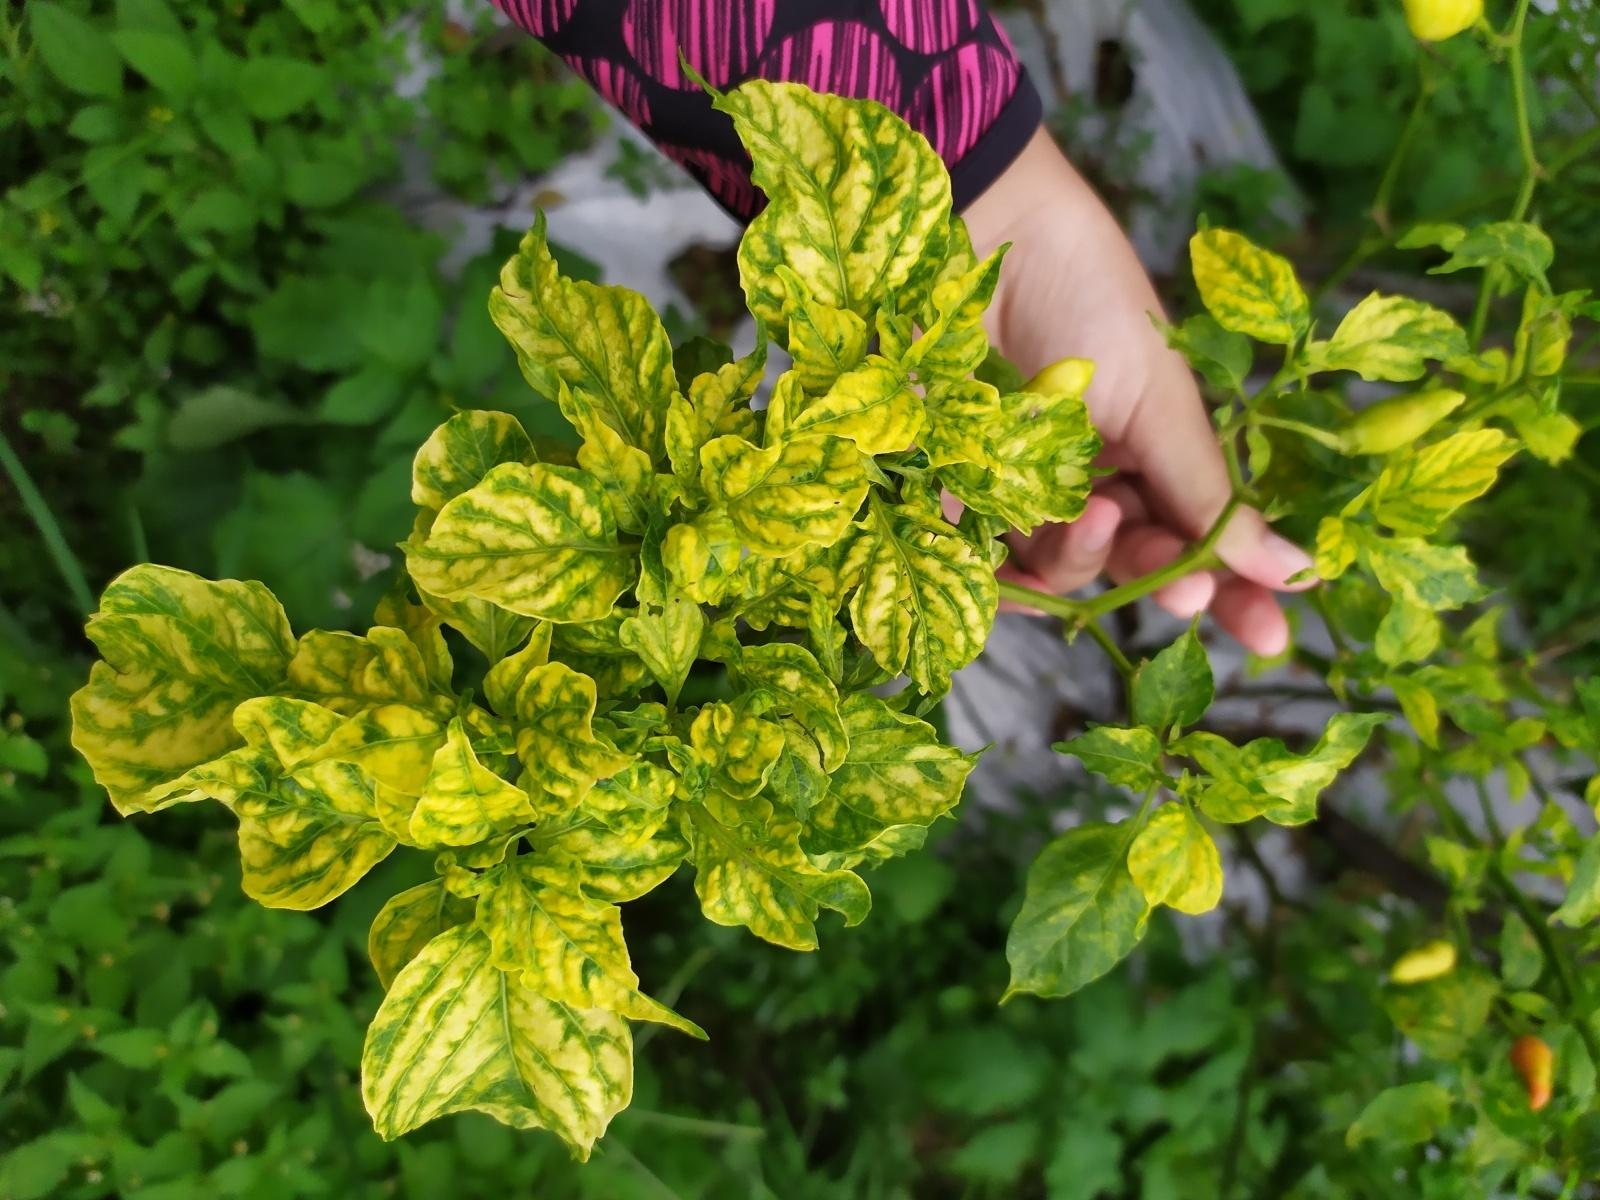cabai_normal: (1338, 388, 1466, 454), (1511, 1034, 1555, 1112), (1391, 938, 1456, 984)
